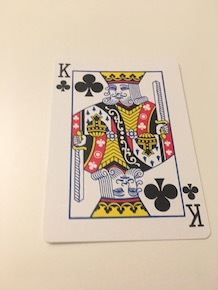KingOfClubs: (45, 52, 214, 243)
